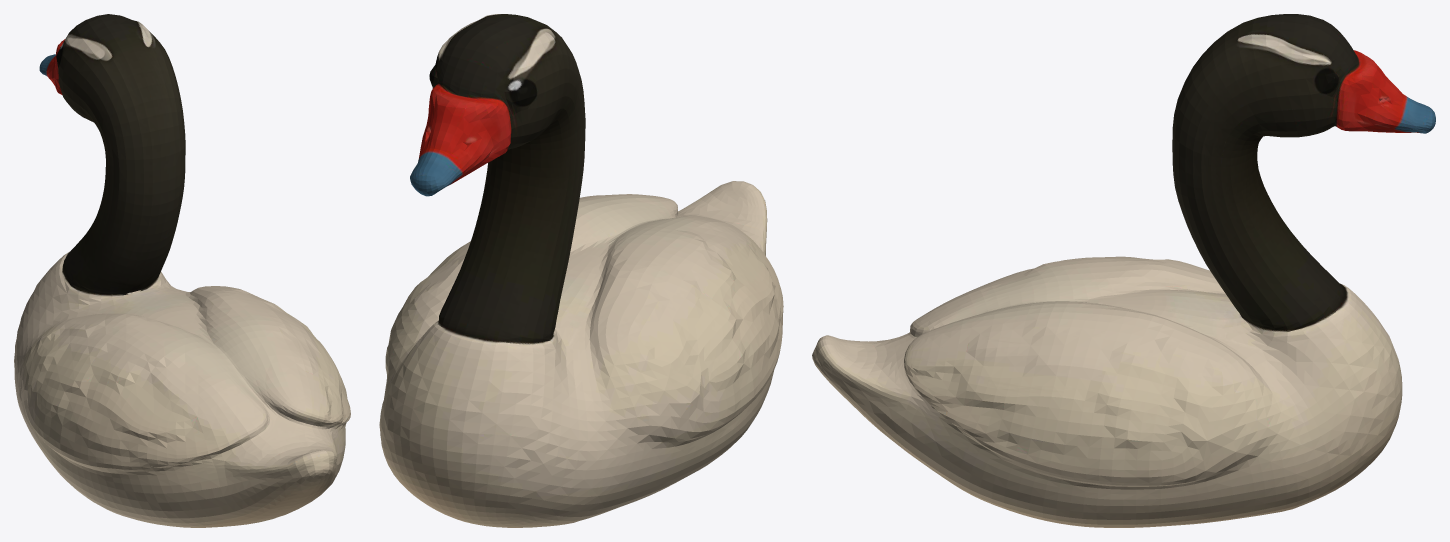
The model's file is cisne_de_cuello_negro.glb.
The picture shows the model from 3 angles, left to right: view 1: azimuth 30°, elevation 25°; view 2: azimuth 150°, elevation 25°; view 3: azimuth 270°, elevation 25°; orthographic projection. The views are drawn at different scales.
Parts seen in each view (by area): view 1: tripo_node_39cd7019-fe68-485b-9de0-bff60f8c22f7; view 2: tripo_node_39cd7019-fe68-485b-9de0-bff60f8c22f7; view 3: tripo_node_39cd7019-fe68-485b-9de0-bff60f8c22f7.
Part boxes in pixels (x1,y1,x2,y2): tripo_node_39cd7019-fe68-485b-9de0-bff60f8c22f7: [14, 14, 350, 527]; tripo_node_39cd7019-fe68-485b-9de0-bff60f8c22f7: [379, 14, 783, 527]; tripo_node_39cd7019-fe68-485b-9de0-bff60f8c22f7: [812, 14, 1435, 527].
Size of the model in its own units: 0.5624 by 0.8419 by 0.9998.
Materials: 1 (1 with a texture image).
